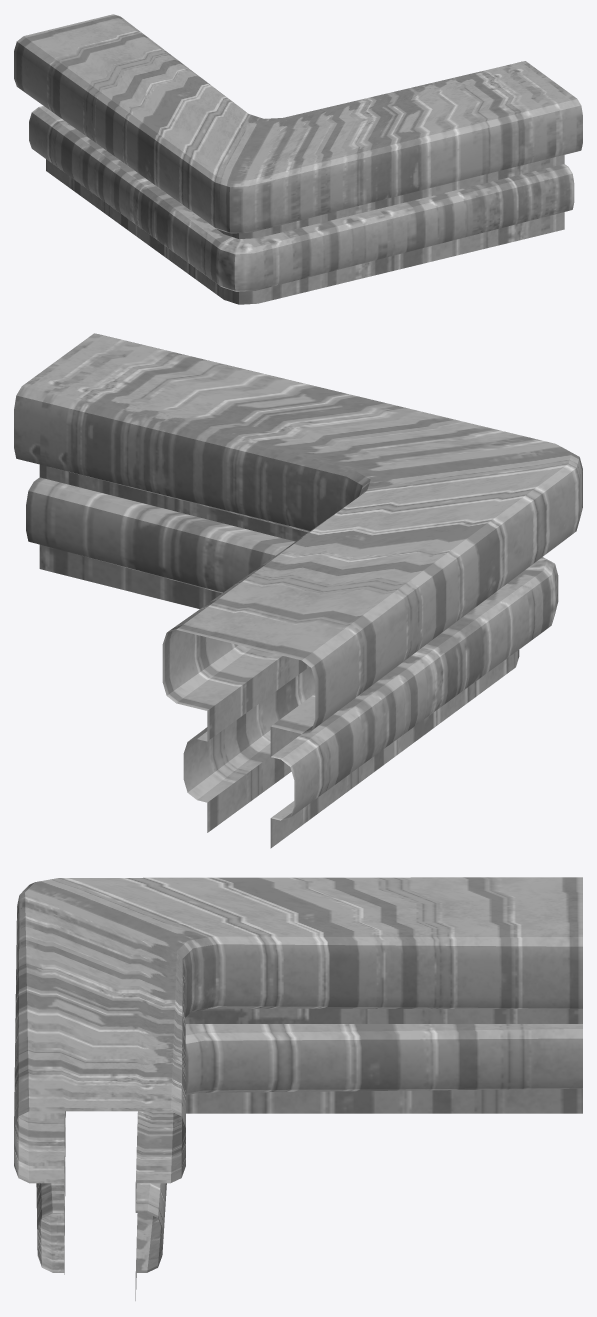
The model's file is SM_Trimcorner3.fbx.
The picture shows the model from 3 angles, top to bottom: view 1: azimuth 30°, elevation 25°; view 2: azimuth 150°, elevation 25°; view 3: azimuth 270°, elevation 25°; orthographic projection. The views are drawn at different scales.
Visible parts, largest first — view 1: SM_Trimcorner3_LOD0; view 2: SM_Trimcorner3_LOD0; view 3: SM_Trimcorner3_LOD0.
Boxes of the visible parts, x1,y1,x2,y2 form: SM_Trimcorner3_LOD0: (14,14,582,304); SM_Trimcorner3_LOD0: (14,333,582,848); SM_Trimcorner3_LOD0: (14,877,582,1300).
Size of the model in its own units: 110 by 110 by 40.71.
